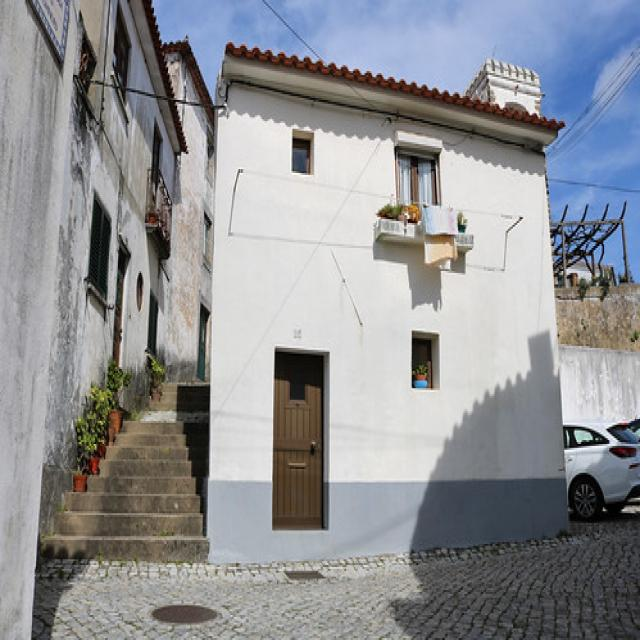Normal_building: (204, 36, 576, 572)
